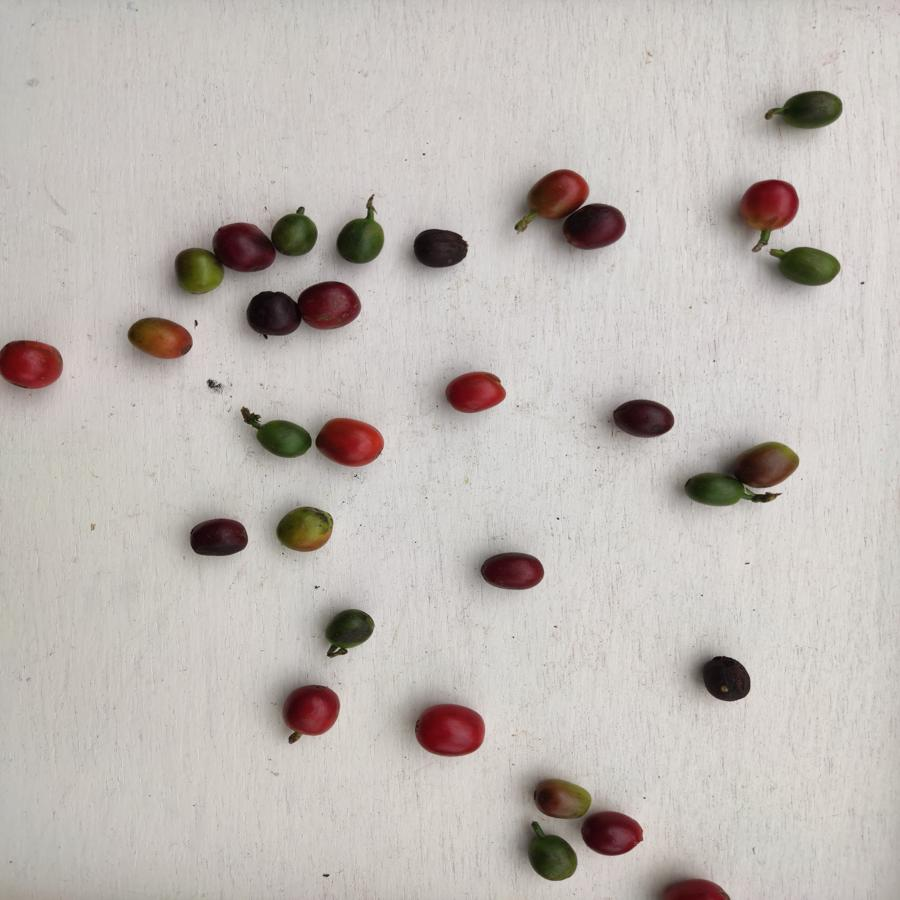Inmaduro: (772, 243, 842, 296), (523, 828, 581, 883), (254, 413, 313, 463), (332, 219, 388, 265), (321, 604, 376, 650), (270, 212, 319, 258), (686, 470, 738, 508)
Maduro: (409, 701, 488, 761), (314, 412, 386, 473), (1, 336, 66, 394), (739, 178, 804, 233), (282, 680, 340, 740), (525, 168, 592, 212), (446, 372, 506, 420)
Pinton: (737, 435, 804, 489), (275, 502, 337, 557), (125, 315, 197, 361), (532, 776, 591, 822), (172, 246, 215, 295)
Sobremaduro: (608, 396, 677, 445), (295, 280, 362, 330), (211, 222, 271, 276), (562, 205, 631, 251), (187, 513, 254, 559), (580, 809, 649, 852), (476, 549, 547, 589), (412, 227, 472, 273), (244, 289, 297, 341), (702, 652, 752, 705)
